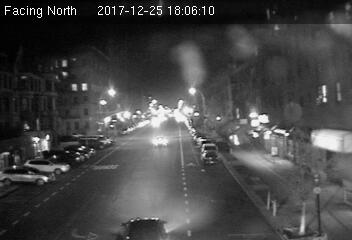car: (199, 150, 219, 165), (150, 134, 171, 146)
